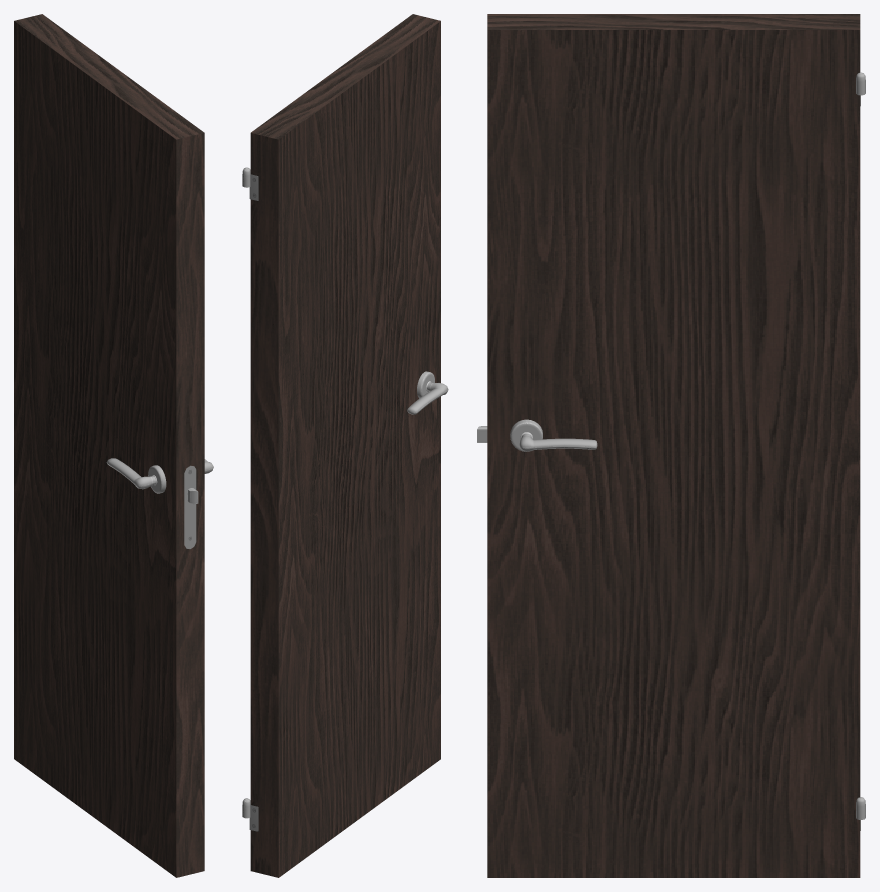
The model's file is door 1.glb.
The picture shows the model from 3 angles, left to right: view 1: azimuth 30°, elevation 25°; view 2: azimuth 150°, elevation 25°; view 3: azimuth 270°, elevation 25°; orthographic projection. The views are drawn at different scales.
Visible parts, largest first — view 1: D1-Door; view 2: D1-Door; view 3: D1-Door.
Boxes of the visible parts, x1,y1,x2,y2 form: D1-Door: (14, 14, 213, 877); D1-Door: (242, 14, 448, 877); D1-Door: (477, 14, 865, 877).
Bounding box in the file's own units: 0.5411 × 4.99 × 2.07.
1 material, 1 textured.
